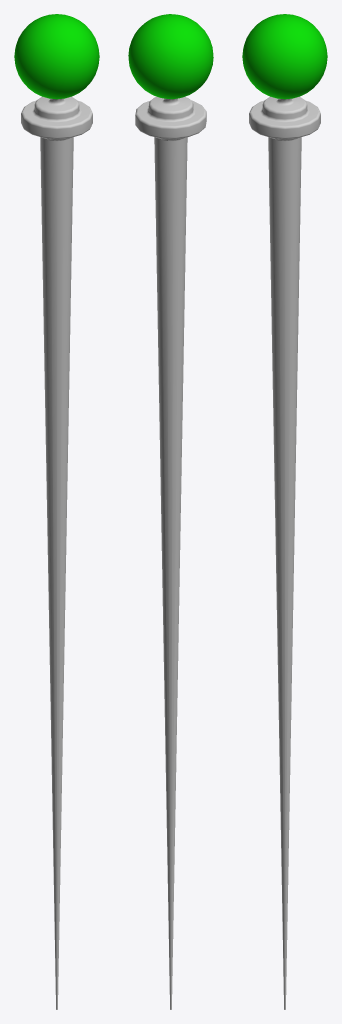
File: green.glb
3 views of the same model, side by side, from view 1: azimuth 90°, elevation 25°; view 2: azimuth 210°, elevation 25°; view 3: azimuth 270°, elevation 25° (orthographic).
Parts seen in each view (by area): view 1: Green.001; view 2: Green.001; view 3: Green.001.
Boxes of the visible parts, box(x1,y1,x2,y2) form: Green.001: box(14, 14, 99, 1009); Green.001: box(128, 14, 213, 1009); Green.001: box(242, 14, 327, 1009).
Size of the model in its own units: 0.593 by 7.6 by 0.593.
